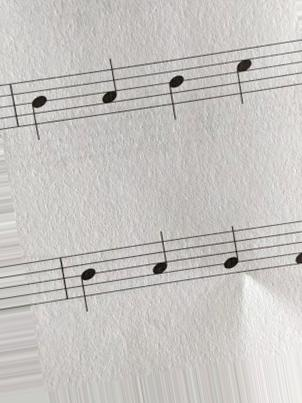A: (149, 228, 173, 295), (98, 59, 122, 115)
B: (76, 251, 103, 318), (165, 58, 191, 123), (30, 71, 51, 144)
G: (216, 222, 243, 284)
HC: (232, 45, 255, 110)
